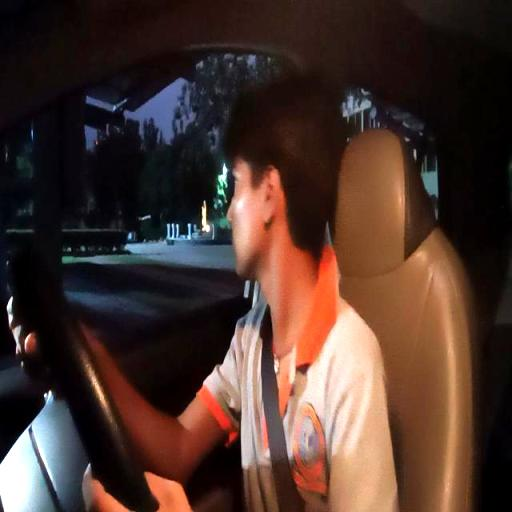Reaching_behind: (56, 78, 391, 510)
